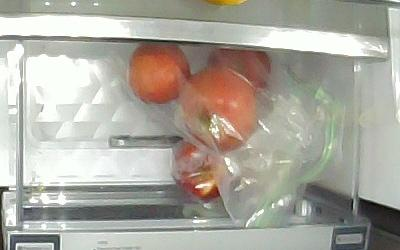apple_vinyl: (180, 68, 261, 151), (128, 42, 191, 106), (172, 141, 224, 203), (206, 46, 272, 92)
